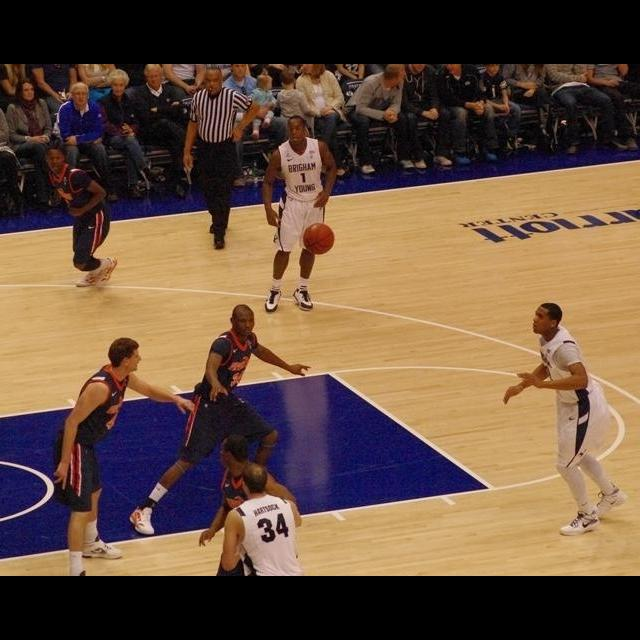basketball: (303, 222, 334, 254)
